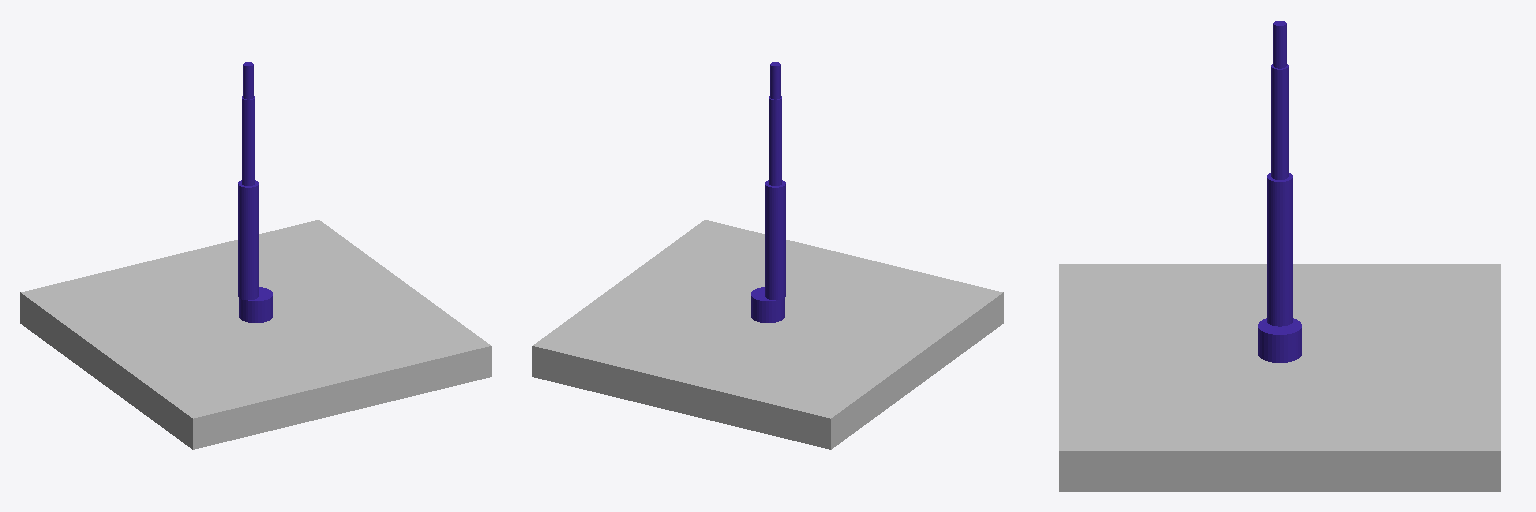
robot.urdf — krowka:
<?xml version="1.0" ?>
<!-- =================================================================================== -->
<!-- |    This document was autogenerated by xacro from krowka.xacro                   | -->
<!-- |    EDITING THIS FILE BY HAND IS NOT RECOMMENDED                                 | -->
<!-- =================================================================================== -->
<robot name="krowka" xmlns:xacro="http://www.ros.org/wiki/xacro">
  <!-- FILES INCLUDED -->
  <gazebo>
    <plugin filename="libgazebo_ros_control.so" name="gazebo_ros_control">
      <robotNamespace>/krowka</robotNamespace>
    </plugin>
  </gazebo>
  <!-- MODEL DEFINITION -->
  <!-- WORLD -->
  <link name="world"/>
  <joint name="fixed" type="fixed">
    <parent link="world"/>
    <child link="base_link"/>
  </joint>
  <link name="base_link">
    <visual>
      <origin rpy="0 0 0" xyz="0 0 0.06"/>
      <geometry>
        <box size="1 1 .1"/>
      </geometry>
      <material name="base_link_color">
        <color rgba=".8 .8 .8 1"/>
      </material>
    </visual>
    <collision>
      <origin rpy="0 0 0" xyz="0 0 0.06"/>
      <geometry>
        <box size="1 1 .1"/>
      </geometry>
    </collision>
    <inertial>
      <origin rpy="0 0 0" xyz="0 0 0"/>
      <mass value="1.070"/>
      <inertia ixx="0.009" ixy="0.000" ixz="-0.002" iyy="0.010" iyz="0.000" izz="0.005"/>
    </inertial>
  </link>
  <gazebo reference="base_link">
    <mu1> .2 </mu1>
    <mu2> .2 </mu2>
    <material> Gazebo/Black </material>
    <selfCollide>False</selfCollide>
  </gazebo>
  <!-- <xacro:camera_link  parent="base_link"
                        trans_x=" 0.200"
                        trans_y="-0.300"
                        trans_z=" 0.500"
                        rot_roll="0.0"
                        rot_pitch="0.7"
                        rot_yaw="2.5"
                        name="camera1"
        /> -->
  <!-- Kinematic description of manipulator. Variables trans_x, trans_y, trans_z contains translations
         of featured link relarively to its parent link, in parent's coordinate frame.
         Origin's rotations are not required, becouse in initial pose rotations of all
         links are the same (arm is directed to thr top)
         Limits, effort, (max) velocity and damping are properties of joint
         between featured link and it's parent link-->
  <link name="link_0">
    <visual>
      <origin rpy="0 0 0" xyz="0 0 0.035"/>
      <geometry>
        <!-- <box size="0.04 0.04 0.070"/> -->
        <cylinder length="0.070" radius="0.050"/>
      </geometry>
      <material name="link_0_color">
        <color rgba=".3 .2 .7 1"/>
      </material>
    </visual>
    <collision>
      <origin rpy="0 0 0" xyz="0 0 0.035"/>
      <geometry>
        <!-- <box size="0.04 0.04 0.070"/> -->
        <cylinder length="0.070" radius="0.050"/>
      </geometry>
    </collision>
    <inertial>
      <origin rpy="0 0 0" xyz="0 0 0"/>
      <mass value="1.082"/>
      <inertia ixx="0.005" ixy="0.000" ixz="0.000" iyy="0.003" iyz="-0.001" izz="0.003"/>
    </inertial>
  </link>
  <gazebo reference="link_0">
    <mu1> .2 </mu1>
    <mu2> .2 </mu2>
    <material> Gazebo/Grey </material>
    <selfCollide>False</selfCollide>
  </gazebo>
  <!-- JOINT -->
  <joint name="link_0_joint" type="revolute">
    <parent link="base_link"/>
    <child link="link_0"/>
    <origin rpy="0 0 0" xyz="0.0 0.0 0.12"/>
    <axis xyz="0 0 1"/>
    <limit effort="10" lower="-3.14" upper="3.14" velocity="0.4"/>
    <dynamics damping="10"/>
  </joint>
  <gazebo reference="link_0_joint">
    <stopCfm>0.8</stopCfm>
    <stopErp>0.5</stopErp>
    <provideFeedback>true</provideFeedback>
    <implicitSpringDamper>true</implicitSpringDamper>
    <fudgeFactor>0.0</fudgeFactor>
  </gazebo>
  <!-- TRANSMISSION -->
  <transmission name="link_0_transmission">
    <type>transmission_interface/SimpleTransmission</type>
    <joint name="link_0_joint">
      <hardwareInterface>EffortJointInterface</hardwareInterface>
    </joint>
    <actuator name="link_0_motor">
      <hardwareInterface>EffortJointInterface</hardwareInterface>
      <mechanicalReduction>1</mechanicalReduction>
    </actuator>
  </transmission>
  <link name="link_1">
    <visual>
      <origin rpy="0 0 0" xyz="0 0 0.180"/>
      <geometry>
        <!-- <box size="0.02 0.02 0.360"/> -->
        <cylinder length="0.360" radius="0.030"/>
      </geometry>
      <material name="link_1_color">
        <color rgba=".3 .2 .7 1"/>
      </material>
    </visual>
    <collision>
      <origin rpy="0 0 0" xyz="0 0 0.180"/>
      <geometry>
        <!-- <box size="0.02 0.02 0.360"/> -->
        <cylinder length="0.360" radius="0.030"/>
      </geometry>
    </collision>
    <inertial>
      <origin rpy="0 0 0" xyz="0 0 0"/>
      <mass value="1.234"/>
      <inertia ixx="0.014" ixy="0.000" ixz="0.000" iyy="0.013" iyz="-0.002" izz=".002"/>
    </inertial>
  </link>
  <gazebo reference="link_1">
    <mu1> .2 </mu1>
    <mu2> .2 </mu2>
    <material> Gazebo/Grey </material>
    <selfCollide>False</selfCollide>
  </gazebo>
  <!-- JOINT -->
  <joint name="link_1_joint" type="revolute">
    <parent link="link_0"/>
    <child link="link_1"/>
    <origin rpy="0 0 0" xyz="-0.025 0.0 0.07"/>
    <axis xyz="0 1 0"/>
    <limit effort="10" lower="-1.9" upper="2.0" velocity="0.4"/>
    <dynamics damping="10"/>
  </joint>
  <gazebo reference="link_1_joint">
    <stopCfm>0.8</stopCfm>
    <stopErp>0.5</stopErp>
    <provideFeedback>true</provideFeedback>
    <implicitSpringDamper>true</implicitSpringDamper>
    <fudgeFactor>0.0</fudgeFactor>
  </gazebo>
  <!-- TRANSMISSION -->
  <transmission name="link_1_transmission">
    <type>transmission_interface/SimpleTransmission</type>
    <joint name="link_1_joint">
      <hardwareInterface>EffortJointInterface</hardwareInterface>
    </joint>
    <actuator name="link_1_motor">
      <hardwareInterface>EffortJointInterface</hardwareInterface>
      <mechanicalReduction>1</mechanicalReduction>
    </actuator>
  </transmission>
  <link name="link_2">
    <visual>
      <origin rpy="0 0 0" xyz="0 0 0.137525"/>
      <geometry>
        <!-- <box size="0.015 0.015 0.2755"/> -->
        <cylinder length="0.2755" radius="0.020"/>
      </geometry>
      <material name="link_2_color">
        <color rgba=".3 .2 .7 1"/>
      </material>
    </visual>
    <collision>
      <origin rpy="0 0 0" xyz="0 0 0.137525"/>
      <geometry>
        <!-- <box size="0.015 0.015 0.2755"/> -->
        <cylinder length="0.2755" radius="0.020"/>
      </geometry>
    </collision>
    <inertial>
      <origin rpy="0 0 3.1416" xyz="0 0 0"/>
      <mass value="0.638"/>
      <inertia ixx="0.005" ixy="0.000" ixz="-0.001" iyy="0.005" iyz="0.000" izz="0.001"/>
    </inertial>
  </link>
  <gazebo reference="link_2">
    <mu1> .2 </mu1>
    <mu2> .2 </mu2>
    <material> Gazebo/Grey </material>
    <selfCollide>False</selfCollide>
  </gazebo>
  <!-- JOINT -->
  <joint name="link_2_joint" type="revolute">
    <parent link="link_1"/>
    <child link="link_2"/>
    <origin rpy="0 0 0" xyz="0.0 0.0 0.36"/>
    <axis xyz="0 1 0"/>
    <limit effort="5" lower="-2.0" upper="2.8" velocity="0.4"/>
    <dynamics damping="5"/>
  </joint>
  <gazebo reference="link_2_joint">
    <stopCfm>0.8</stopCfm>
    <stopErp>0.5</stopErp>
    <provideFeedback>true</provideFeedback>
    <implicitSpringDamper>true</implicitSpringDamper>
    <fudgeFactor>0.0</fudgeFactor>
  </gazebo>
  <!-- TRANSMISSION -->
  <transmission name="link_2_transmission">
    <type>transmission_interface/SimpleTransmission</type>
    <joint name="link_2_joint">
      <hardwareInterface>EffortJointInterface</hardwareInterface>
    </joint>
    <actuator name="link_2_motor">
      <hardwareInterface>EffortJointInterface</hardwareInterface>
      <mechanicalReduction>1</mechanicalReduction>
    </actuator>
  </transmission>
  <link name="link_3">
    <visual>
      <origin rpy="0 0 0" xyz="0 0 0.053"/>
      <geometry>
        <!-- <box size="0.01 0.01 0.106"/> -->
        <cylinder length="0.106" radius="0.015"/>
      </geometry>
      <material name="link_3_color">
        <color rgba=".3 .2 .7 1"/>
      </material>
    </visual>
    <collision>
      <origin rpy="0 0 0" xyz="0 0 0.053"/>
      <geometry>
        <!-- <box size="0.01 0.01 0.106"/> -->
        <cylinder length="0.106" radius="0.015"/>
      </geometry>
    </collision>
    <inertial>
      <origin rpy="0 0 0" xyz="0 0 0"/>
      <mass value="0.046"/>
      <inertia ixx="0.000016" ixy="0.000000" ixz="0.000000" iyy="0.000016" iyz="0.000" izz="0.000009"/>
    </inertial>
  </link>
  <gazebo reference="link_3">
    <mu1> .2 </mu1>
    <mu2> .2 </mu2>
    <material> Gazebo/Grey </material>
    <selfCollide>False</selfCollide>
  </gazebo>
  <!-- JOINT -->
  <joint name="link_3_joint" type="revolute">
    <parent link="link_2"/>
    <child link="link_3"/>
    <origin rpy="0 0 0" xyz="0.0 0.0 0.2755"/>
    <axis xyz="0 1 0"/>
    <limit effort="5" lower="-2.1" upper="2.1" velocity="0.4"/>
    <dynamics damping="3"/>
  </joint>
  <gazebo reference="link_3_joint">
    <stopCfm>0.8</stopCfm>
    <stopErp>0.5</stopErp>
    <provideFeedback>true</provideFeedback>
    <implicitSpringDamper>true</implicitSpringDamper>
    <fudgeFactor>0.0</fudgeFactor>
  </gazebo>
  <!-- TRANSMISSION -->
  <transmission name="link_3_transmission">
    <type>transmission_interface/SimpleTransmission</type>
    <joint name="link_3_joint">
      <hardwareInterface>EffortJointInterface</hardwareInterface>
    </joint>
    <actuator name="link_3_motor">
      <hardwareInterface>EffortJointInterface</hardwareInterface>
      <mechanicalReduction>1</mechanicalReduction>
    </actuator>
  </transmission>
  <!-- <xacro:grip     parent="link_3"
                    trans_x="0.02"
                    trans_y="0.000"
                    trans_z="0.106"
                    name="grip_0"
                    low_limit="-0.2"
                    high_limit="0.5"
                    effort="10"
                    velocity="0.4"
                    damping="3"
                    axis="1"
                    rot_yaw="0.00"
                    no="0"/>

    <xacro:grip     parent="link_3"
                    trans_x="-0.02"
                    trans_y="0.000"
                    trans_z="0.106"
                    name="grip_1"
                    low_limit="-0.2"
                    high_limit="0.5"
                    effort="10"
                    velocity="0.4"
                    damping="3"
                    axis="-1"
                    rot_yaw="3.1416"
                    no="1"/> -->
</robot>

--- What the picture shows (computed from the rendered views, not written in the file) ---
3 views of the same robot in one strip: view 1: azimuth 30°, elevation 25°; view 2: azimuth 150°, elevation 25°; view 3: azimuth 270°, elevation 25° (orthographic).
Robot: krowka — 6 links, 5 joints (4 revolute, 1 fixed); root link world; default pose: all joints at 0.
Links seen in each view (by area): view 1: base_link, link_1, link_2, link_0; view 2: base_link, link_1, link_2, link_0; view 3: base_link, link_1, link_2, link_0, link_3.
Boxes of the visible links, x1,y1,x2,y2 form: base_link: (20,220,491,449); link_1: (238,180,258,299); link_2: (242,96,254,185); link_0: (239,287,272,322); base_link: (532,220,1003,449); link_1: (765,180,785,299); link_2: (769,96,781,185); link_0: (751,287,784,322); base_link: (1059,264,1500,491); link_1: (1267,173,1292,326); link_2: (1271,64,1288,179); link_0: (1258,318,1301,362); link_3: (1273,21,1286,68).
Bounding box of the posed robot: 1 × 1 × 0.9215 m (x, y, z).
Geometry: primitives only (box / cylinder / sphere), no mesh files.
